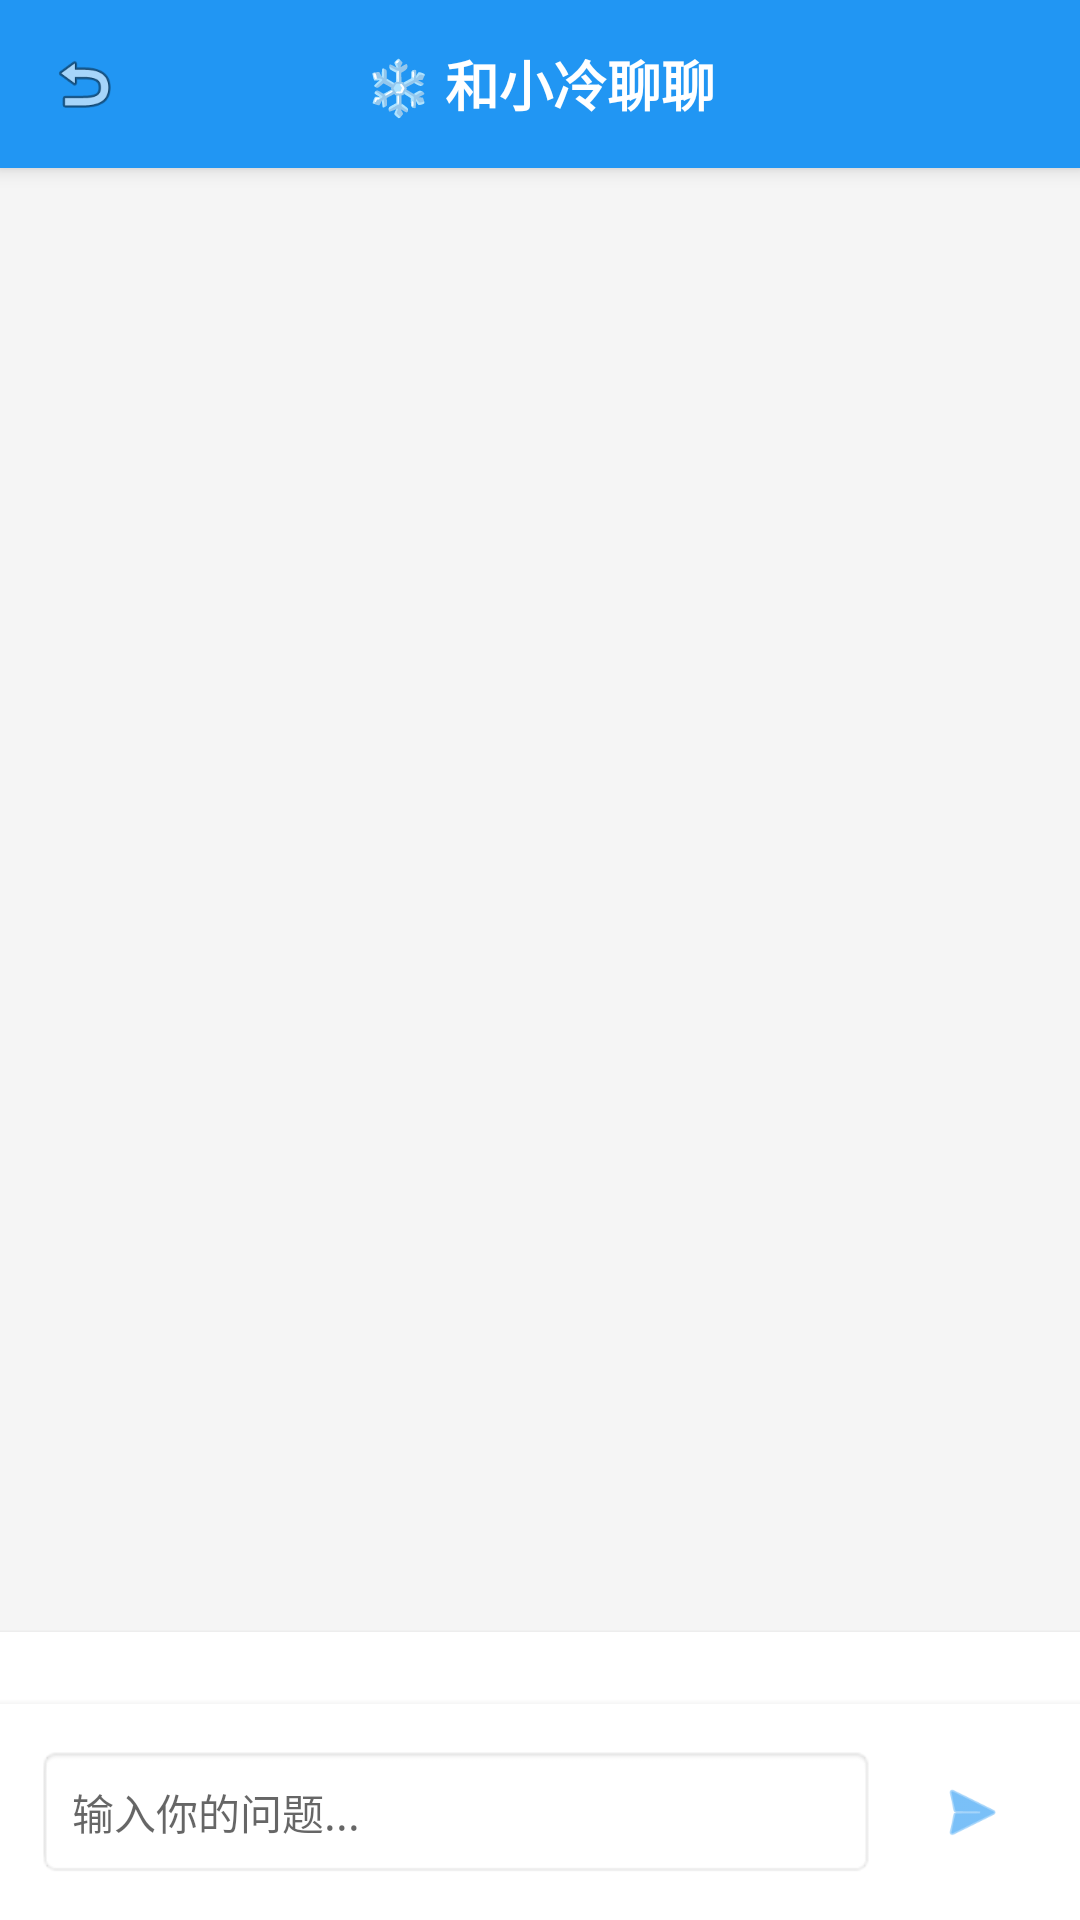

Point at icon controls on the screen. Image size 1080x1920, points as [x,y].
发送: [973,1812]
返回: [85,84]
